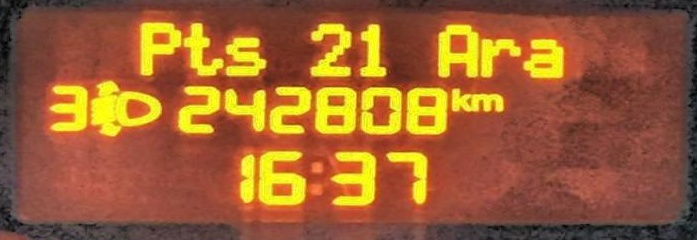0: (361, 79, 401, 136)
1: (357, 22, 387, 78), (237, 148, 256, 205)
2: (308, 21, 354, 79), (268, 82, 310, 134), (177, 84, 219, 134)
3: (330, 146, 373, 209), (49, 79, 86, 133)
4: (222, 82, 266, 133)
6: (259, 150, 304, 206)
7: (384, 147, 429, 208)
8: (313, 84, 356, 135), (404, 84, 444, 136)
X: (433, 20, 478, 76), (185, 17, 224, 75), (140, 19, 179, 74), (522, 36, 569, 81), (228, 31, 273, 76), (478, 35, 520, 76), (304, 152, 328, 198), (469, 91, 504, 113), (448, 86, 470, 111)
